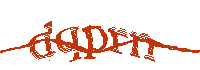d: (29, 18, 55, 61)
n: (131, 31, 157, 62)
p: (83, 24, 108, 62)
q: (56, 24, 83, 64)
r: (109, 26, 127, 55)
